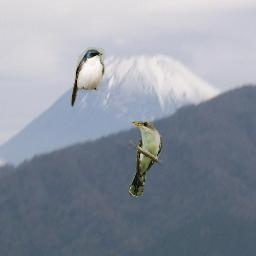Cuckoo: (129, 121, 162, 197)
Swallow: (71, 47, 105, 107)
